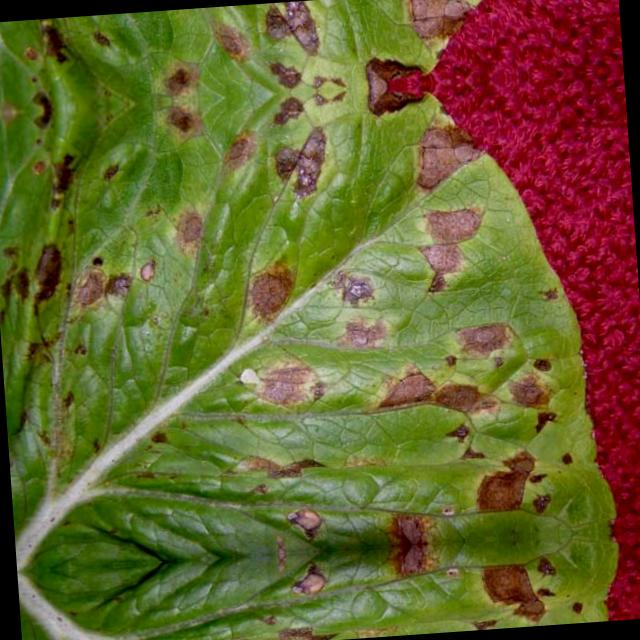Septoria_Blight: (376, 314, 574, 437), (386, 539, 594, 636), (378, 442, 586, 538), (410, 194, 490, 290), (234, 355, 338, 410), (268, 124, 342, 198), (0, 237, 66, 305), (259, 0, 332, 56), (412, 128, 473, 188), (241, 260, 298, 319), (76, 258, 160, 298), (403, 0, 463, 34), (329, 268, 382, 304), (170, 208, 214, 245)
